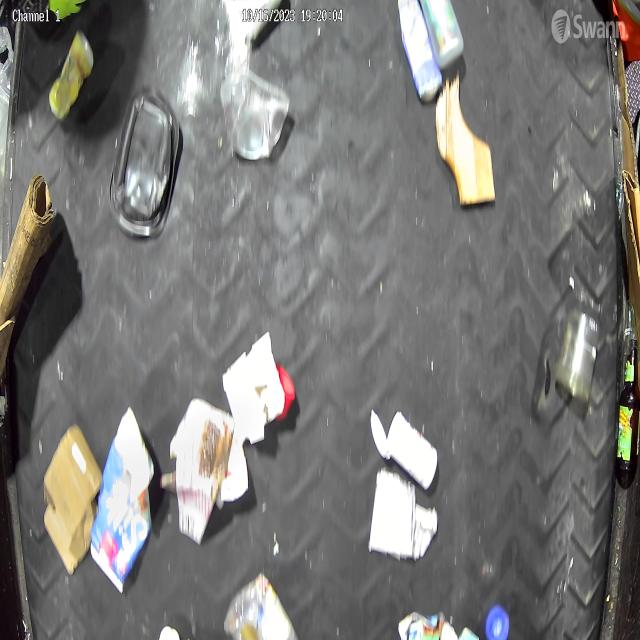can: (231, 66, 290, 165), (366, 464, 418, 561)
